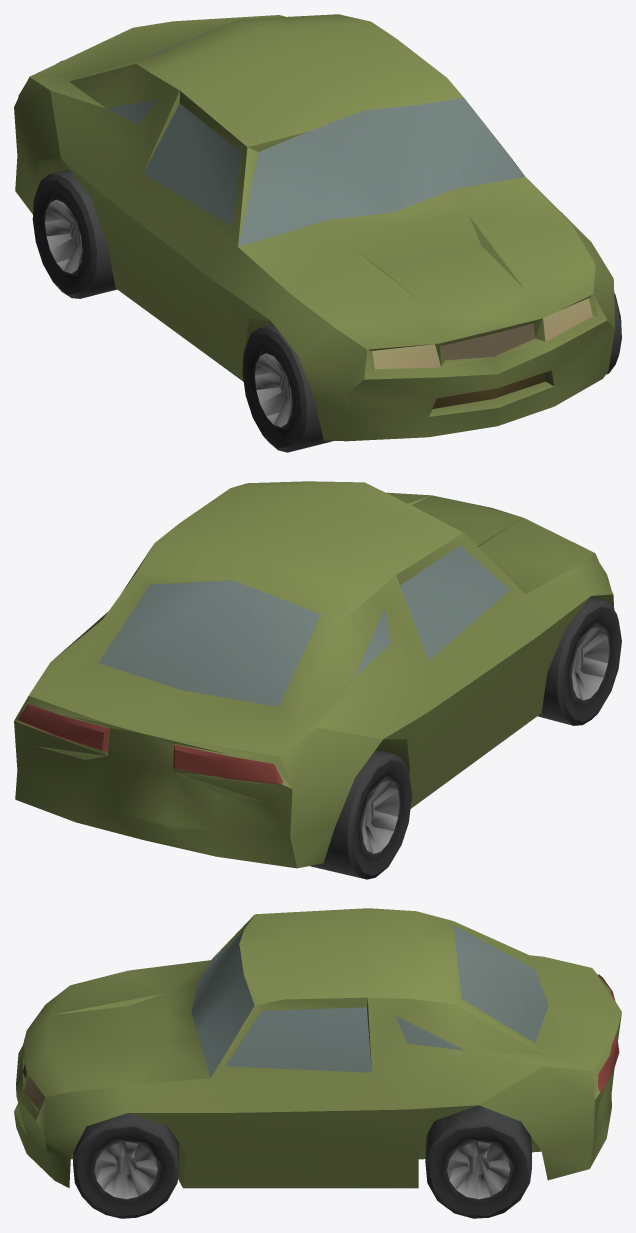
Rendered from Car 2.fbx.
The picture shows the model from 3 angles, top to bottom: view 1: azimuth 30°, elevation 25°; view 2: azimuth 150°, elevation 25°; view 3: azimuth 270°, elevation 25°; orthographic projection. The views are drawn at different scales.
Visible parts, largest first — view 1: Car 2; view 2: Car 2; view 3: Car 2.
Boxes of the visible parts, x1,y1,x2,y2 form: Car 2: (14,14,621,452); Car 2: (14,481,621,879); Car 2: (14,908,621,1218).
Bounding box in the file's own units: 602 × 455 × 1153.
